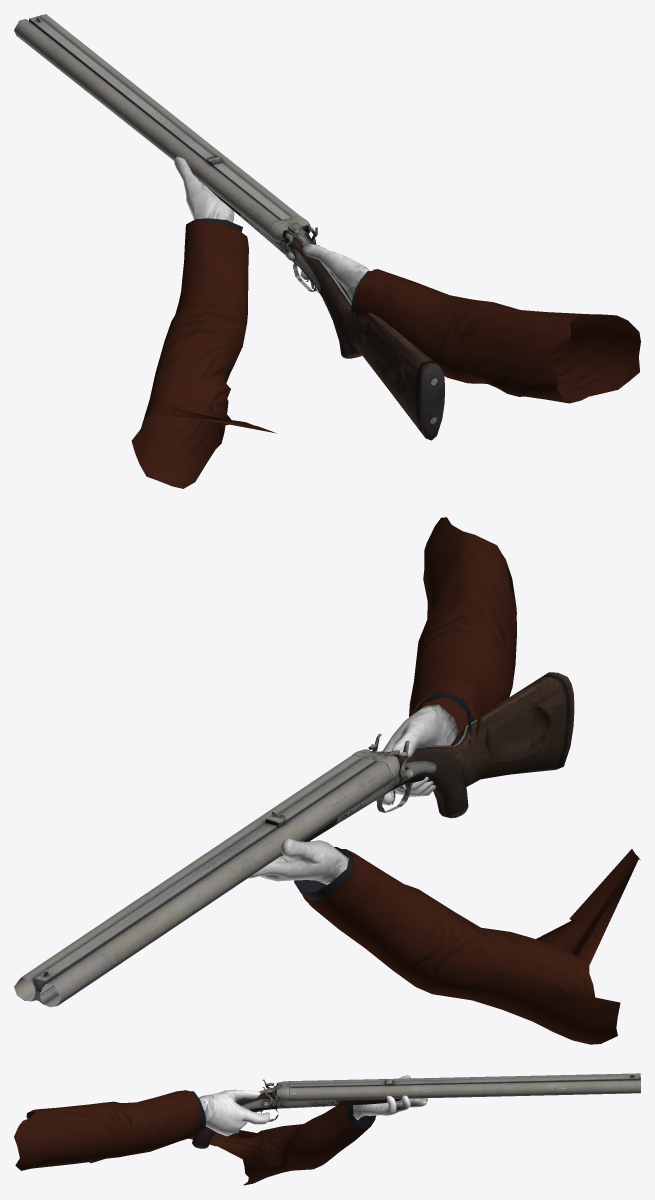
File: frame_13.obj
3 views of the same model, one above another, from view 1: azimuth 30°, elevation 25°; view 2: azimuth 150°, elevation 25°; view 3: azimuth 270°, elevation 25° (orthographic). The views are drawn at different scales.
Visible parts, largest first — view 1: PlayerModelMerged.001_PlayerModelMerged, double_-_barreled_shotgun_L_double_-_barreled_shotgun_LP_к.001; view 2: PlayerModelMerged.001_PlayerModelMerged, double_-_barreled_shotgun_L_double_-_barreled_shotgun_LP_к.001; view 3: PlayerModelMerged.001_PlayerModelMerged, double_-_barreled_shotgun_L_double_-_barreled_shotgun_LP_к.001.
Part boxes in pixels (x1,y1,x2,y2): PlayerModelMerged.001_PlayerModelMerged: [131, 156, 640, 488]; double_-_barreled_shotgun_L_double_-_barreled_shotgun_LP_к.001: [14, 14, 444, 440]; PlayerModelMerged.001_PlayerModelMerged: [248, 517, 640, 1044]; double_-_barreled_shotgun_L_double_-_barreled_shotgun_LP_к.001: [14, 672, 574, 1007]; PlayerModelMerged.001_PlayerModelMerged: [14, 1075, 427, 1185]; double_-_barreled_shotgun_L_double_-_barreled_shotgun_LP_к.001: [89, 1073, 640, 1163].
Bounding box in the file's own units: 0.8331 × 0.5503 × 2.
